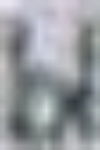Y_RUS: (0, 0, 99, 149)
